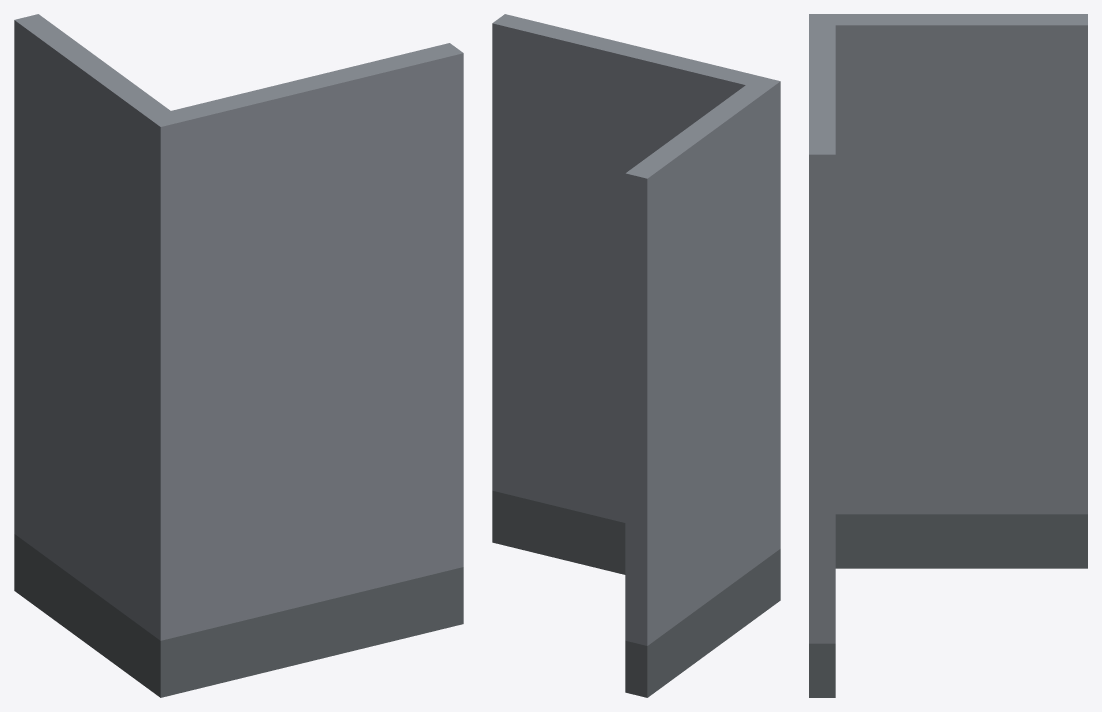
The model's file is Wall3_12.fbx.
3 renders of one model, left to right at view 1: azimuth 30°, elevation 25°; view 2: azimuth 150°, elevation 25°; view 3: azimuth 270°, elevation 25°, orthographic. The views are drawn at different scales.
Parts seen in each view (by area): view 1: Wall3_12; view 2: Wall3_12; view 3: Wall3_12.
Boxes of the visible parts, x1,y1,x2,y2 form: Wall3_12: [14, 14, 463, 697]; Wall3_12: [492, 14, 780, 697]; Wall3_12: [809, 14, 1087, 697].
Size of the model in its own units: 500 by 900 by 418.
